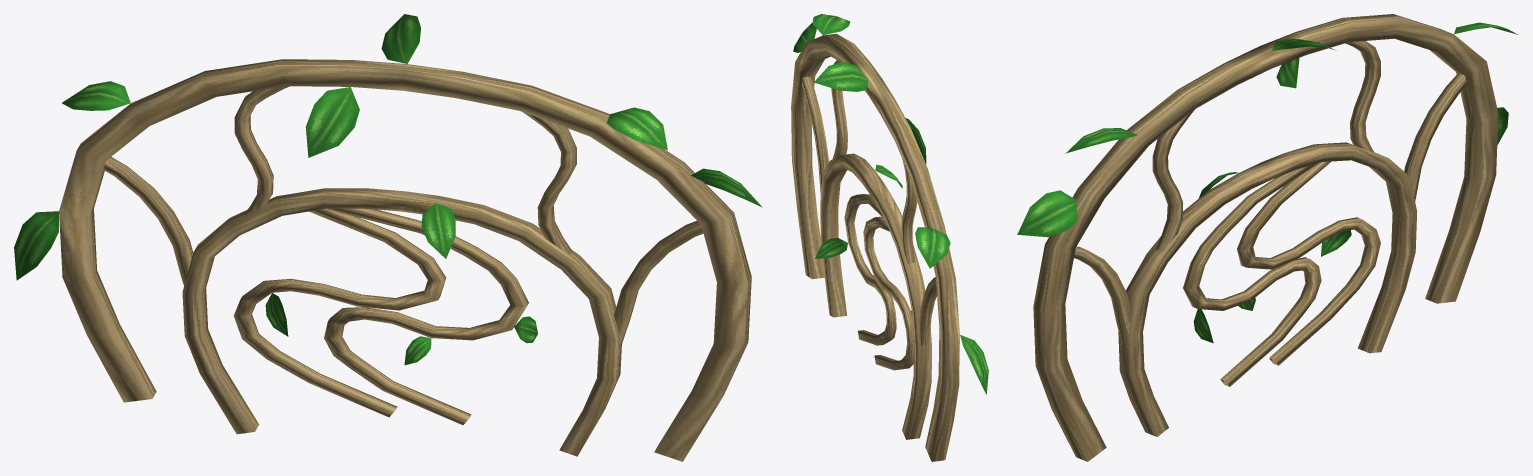
File: EKH_BARRELROOM_PS_JA1_LOFT14.fbx
3 renders of one model, left to right at view 1: azimuth 30°, elevation 25°; view 2: azimuth 150°, elevation 25°; view 3: azimuth 270°, elevation 25°, orthographic. The views are drawn at different scales.
Visible parts, largest first — view 1: EKH_BARRELROOM_PS_JA1_LOFT14; view 2: EKH_BARRELROOM_PS_JA1_LOFT14; view 3: EKH_BARRELROOM_PS_JA1_LOFT14.
Part boxes in pixels (<box>): EKH_BARRELROOM_PS_JA1_LOFT14: <box>14,14,762,461</box>; EKH_BARRELROOM_PS_JA1_LOFT14: <box>791,14,988,461</box>; EKH_BARRELROOM_PS_JA1_LOFT14: <box>1017,14,1517,461</box>.
Size of the model in its own units: 18173 by 14392 by 17561.
2 materials, 2 textured.
